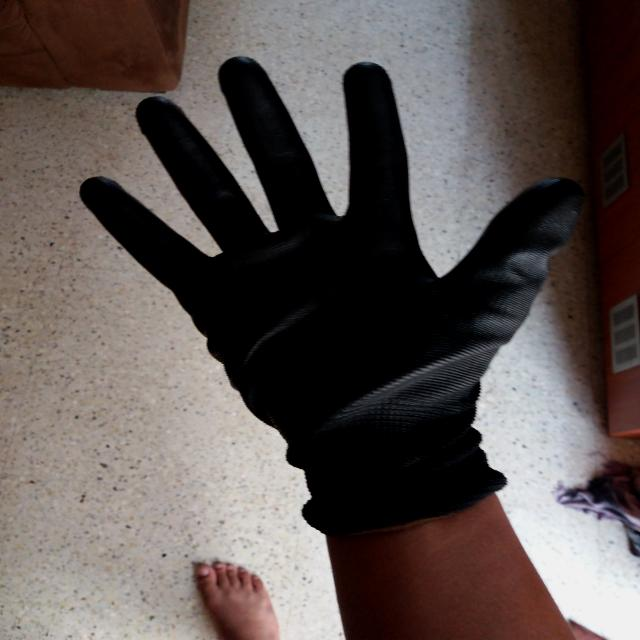glove: (75, 46, 592, 546)
